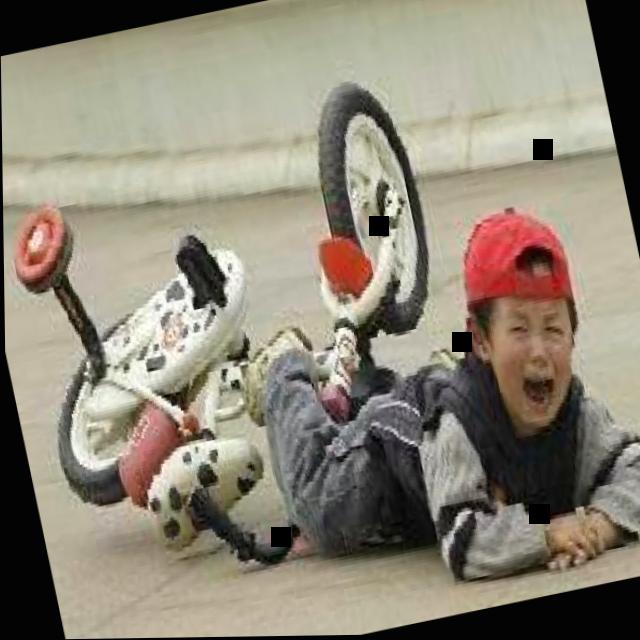Fall-Detected: (207, 159, 640, 638)
